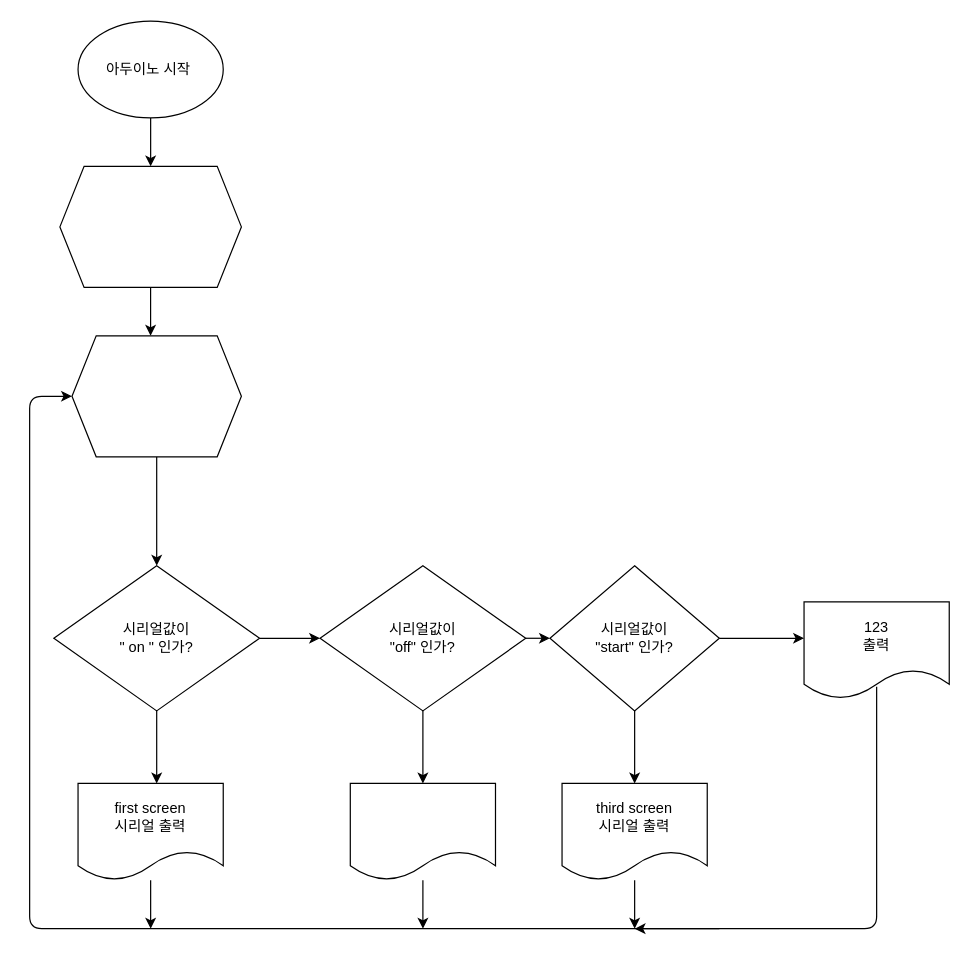
Some shapes in this 970 by 960 pixel diagram are drawn without their labels. The centre of each missing label's shape, as x and y in pixels:
long unsighed previousTime = 0; long unsighed previousTime = 0;: point (150, 226)
loop setup() { Serial.begin(9600);: point (156, 396)
second screen 시리얼 출력: point (422, 831)
